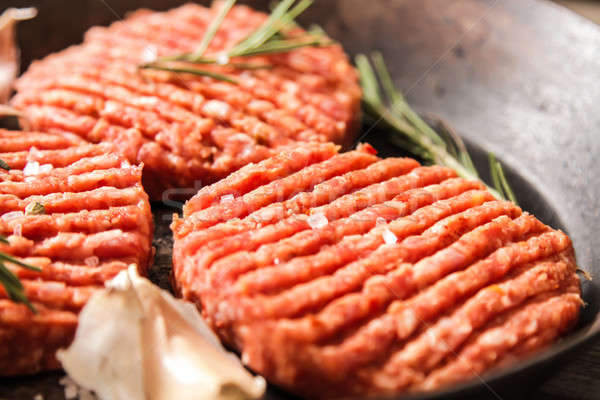ground_beef: (195, 132, 546, 380), (22, 16, 341, 177), (1, 118, 164, 310)
